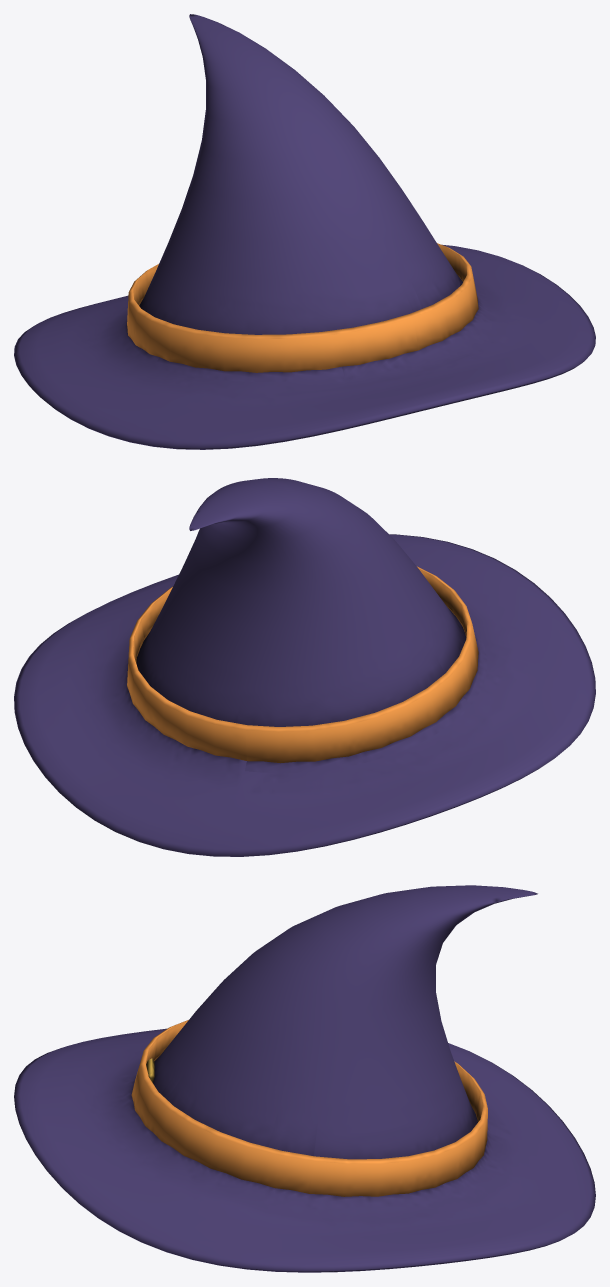
The model's file is hat_witch.glb.
3 renders of one model, top to bottom at view 1: azimuth 30°, elevation 25°; view 2: azimuth 150°, elevation 25°; view 3: azimuth 270°, elevation 25°, orthographic.
Parts seen in each view (by area): view 1: hat_witch; view 2: hat_witch; view 3: hat_witch.
Part boxes in pixels (x1,y1,x2,y2): hat_witch: (14, 14, 595, 449); hat_witch: (14, 478, 595, 856); hat_witch: (14, 885, 595, 1272).
Size of the model in its own units: 0.977 by 0.5581 by 0.9613.
Materials: 3 (3 with a texture image).
